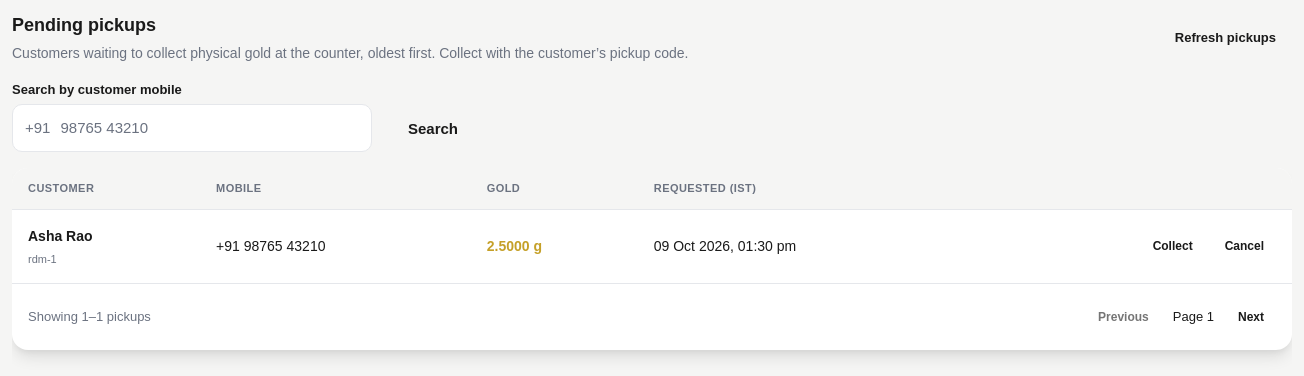
Test: search by customer phone › normalises a pasted number and queries from page one
This screenshot has width=1304, height=376.
Click the button "Next" at (1251, 317), box [1226,300,1276,334]
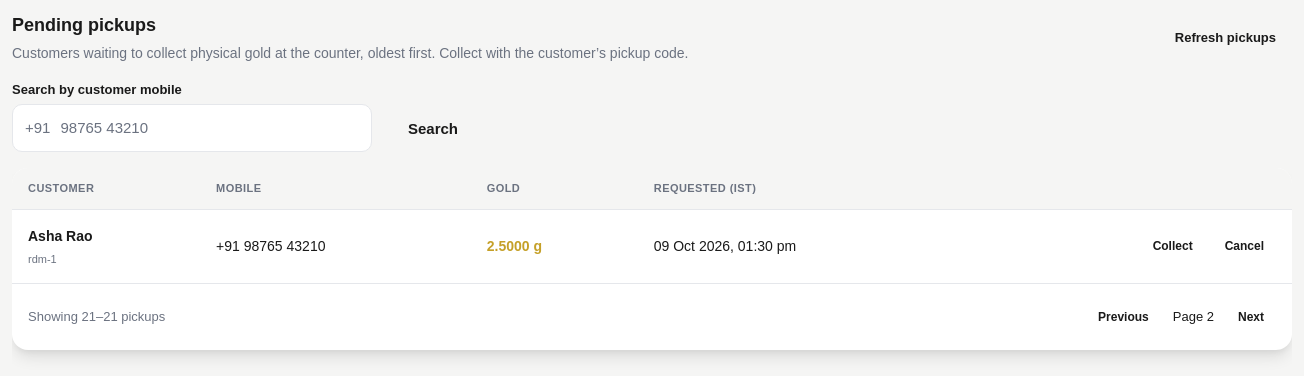
Type "+91 98765-43210" into the field labelled "Search by customer mobile" at (209, 128), box [58,104,359,151]
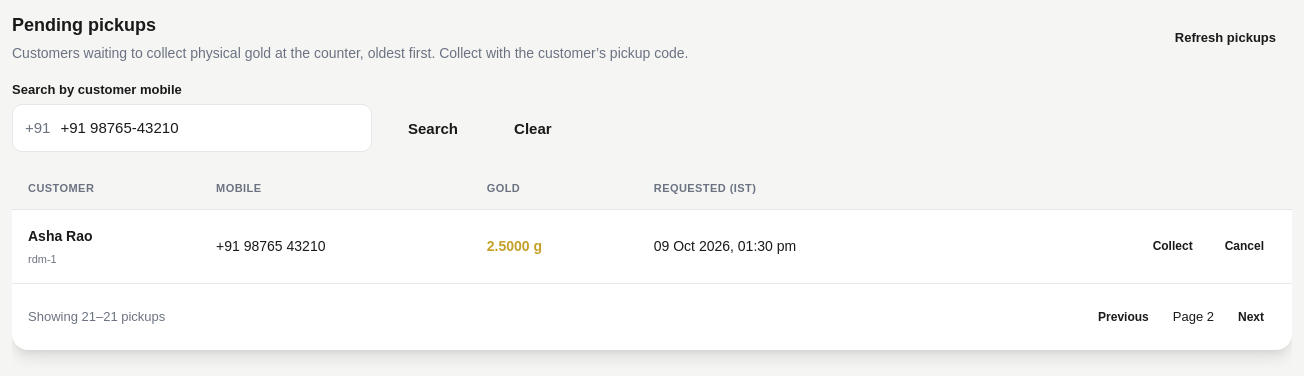
Click the button "Search" at (433, 129), box [384,106,482,152]
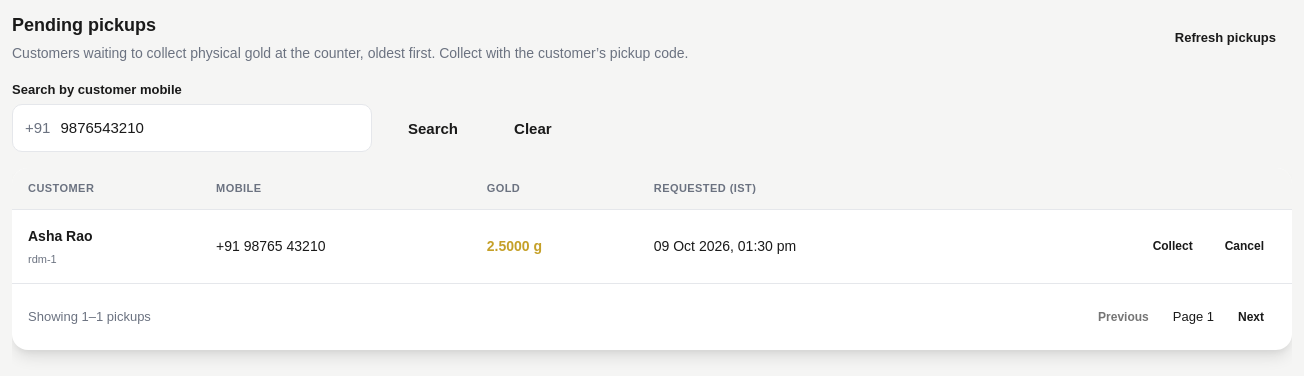
Now the field labelled "Search by customer mobile" holds "9876543210", box [58,104,359,151]
